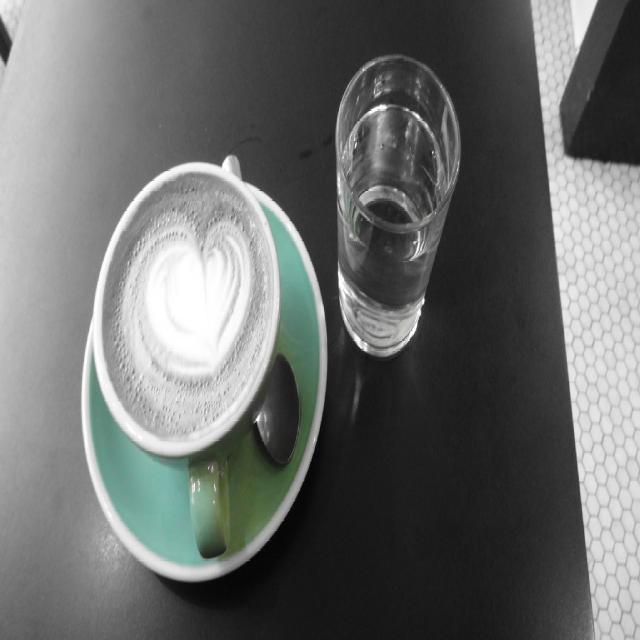Coffee: (103, 170, 271, 437)
